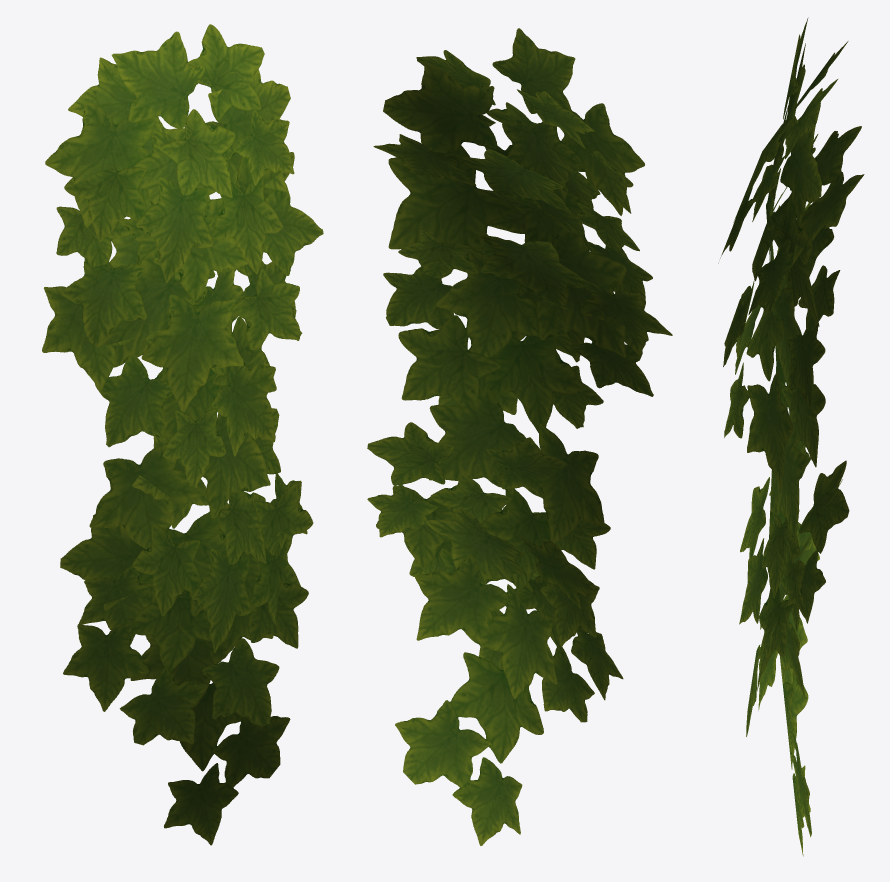
The model's file is MSH_fwOF_Ivy_Narrow_01.fbx.
The picture shows the model from 3 angles, left to right: view 1: azimuth 30°, elevation 25°; view 2: azimuth 150°, elevation 25°; view 3: azimuth 270°, elevation 25°; orthographic projection. The views are drawn at different scales.
Parts seen in each view (by area): view 1: MSH_fwOF_Ivy_Narrow_01_LOD0; view 2: MSH_fwOF_Ivy_Narrow_01_LOD0; view 3: MSH_fwOF_Ivy_Narrow_01_LOD0.
Part boxes in pixels (x1,y1,x2,y2): MSH_fwOF_Ivy_Narrow_01_LOD0: (42, 24, 323, 845); MSH_fwOF_Ivy_Narrow_01_LOD0: (367, 28, 672, 845); MSH_fwOF_Ivy_Narrow_01_LOD0: (718, 17, 864, 856).
Size of what is drawn, in the model's own units: 0.3795 by 1.02 by 0.1811.
